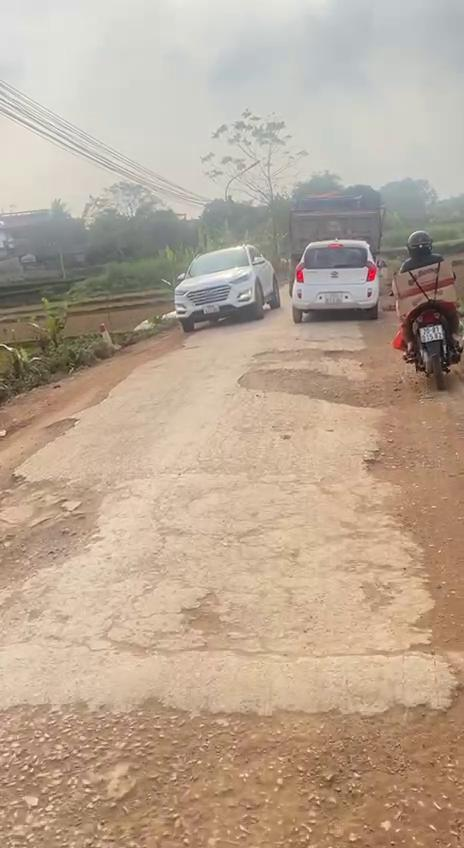pothole: (0, 415, 102, 584), (234, 344, 386, 408), (412, 597, 464, 732), (178, 588, 232, 654), (364, 433, 408, 487)
